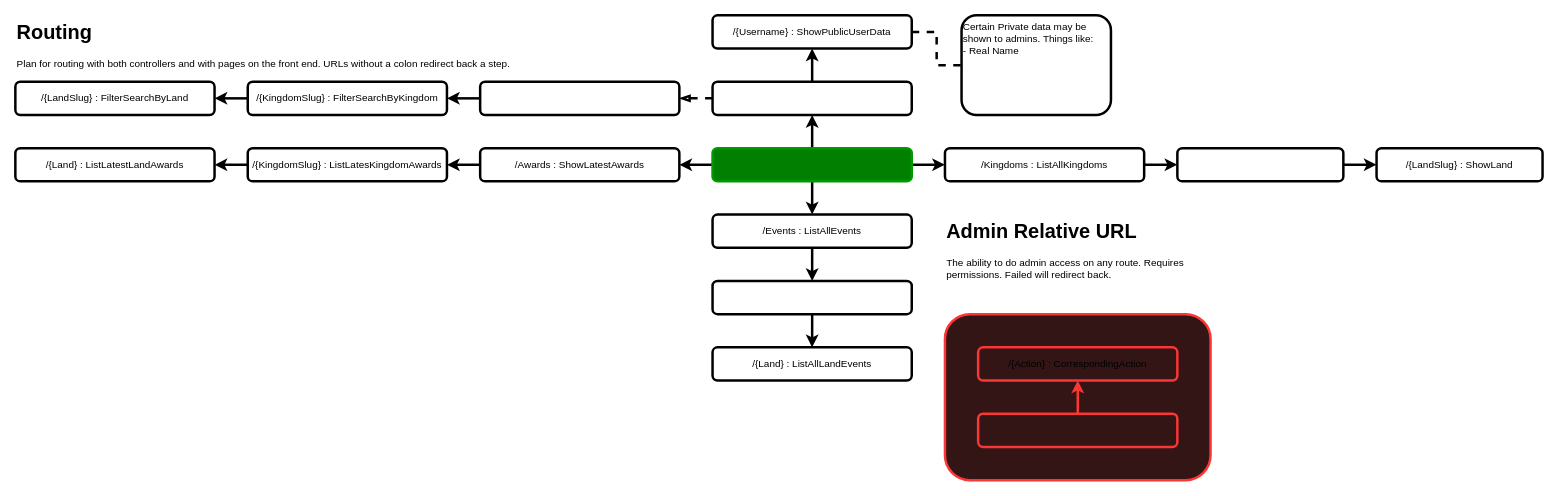
Some shapes in this 1558 by 496 pixel diagram are drawn without their labels. The box of each missing label's shape, as (x1, y1, x2, y2) in pixels:
/Admin : CheckAdminCreds: (976, 412, 1178, 448)
/api || home: (711, 146, 913, 182)
/User-Search : SearchUser: (478, 80, 680, 116)
/Users (redir to search): (711, 80, 913, 116)
/{KingdomSlug} : ListAllKingdomEvents: (711, 279, 913, 315)
/{KingdomSlug} : ShowKingdom: (1176, 146, 1344, 182)
